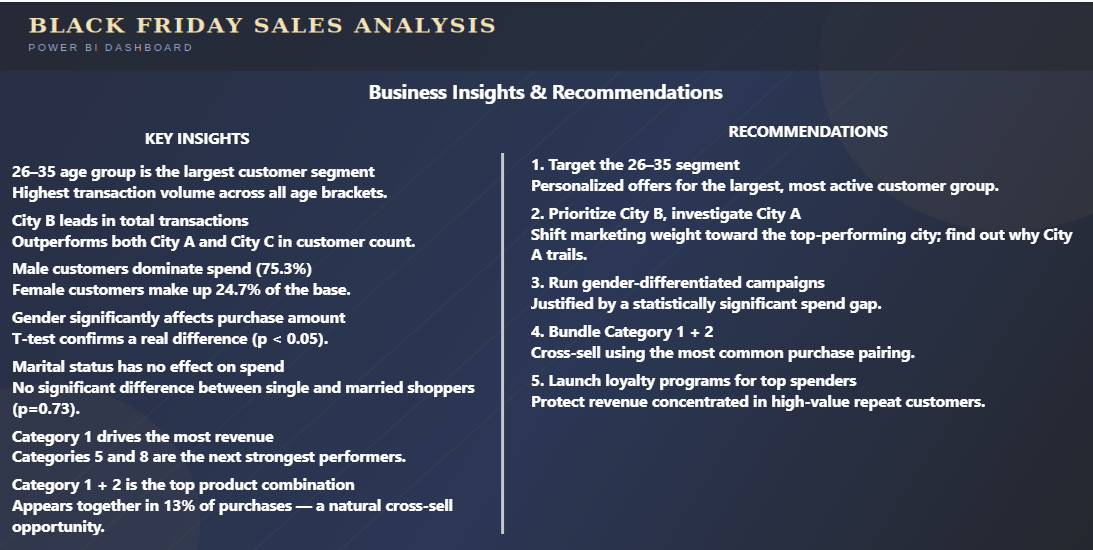

The page's visual inventory and layout, read from the dashboard file:
{"tool":"powerbi","page":{"name":"Business insights","canvas":[3000,1500],"ordinal":2},"visuals":[{"type":"textbox","box":[10,0,280,280],"z":0},{"type":"textbox","box":[49.1,169.1,2910,111.8],"z":1},{"type":"textbox","box":[49.1,302.7,1009.1,155.5],"z":2},{"type":"textbox","box":[1718.2,302.7,1003.6,133.6],"z":3},{"type":"textbox","box":[49.1,436.4,1341.8,1017.3],"z":4},{"type":"textbox","box":[1464,484.1,1495.7,968.3],"z":5}]}

Visuals, with their boxes in screenshot pixels (x1, y1, x2, y2), scaled from the page's 3000x1500 canvas onto the 1093x550 screenshot:
textbox: bbox=(4, 0, 106, 103)
textbox: bbox=(18, 62, 1078, 103)
textbox: bbox=(18, 111, 386, 168)
textbox: bbox=(626, 111, 992, 160)
textbox: bbox=(18, 160, 507, 533)
textbox: bbox=(533, 178, 1078, 533)
